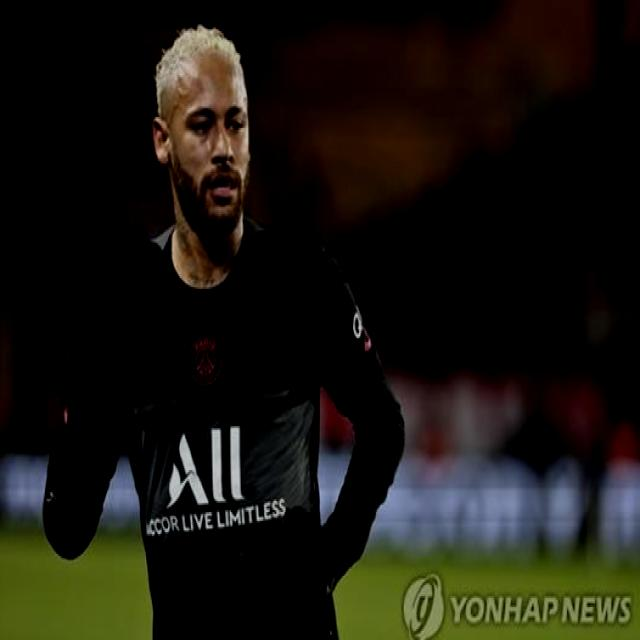neymar: (155, 21, 253, 237)
